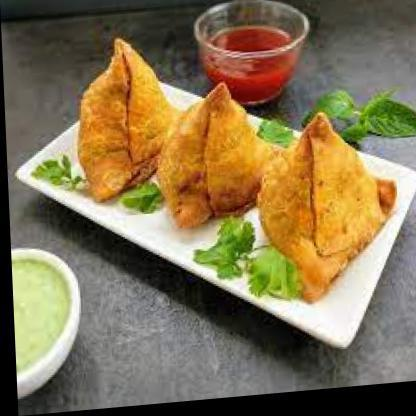samosa: (253, 113, 398, 314), (154, 83, 282, 236), (73, 38, 176, 205)
